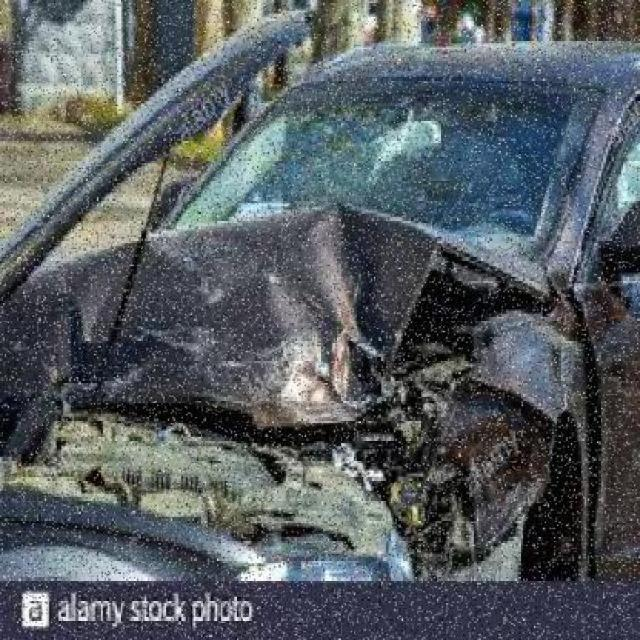Front-Windscreen-Damage: (146, 60, 593, 244)
bonnet-dent: (0, 217, 494, 445)
